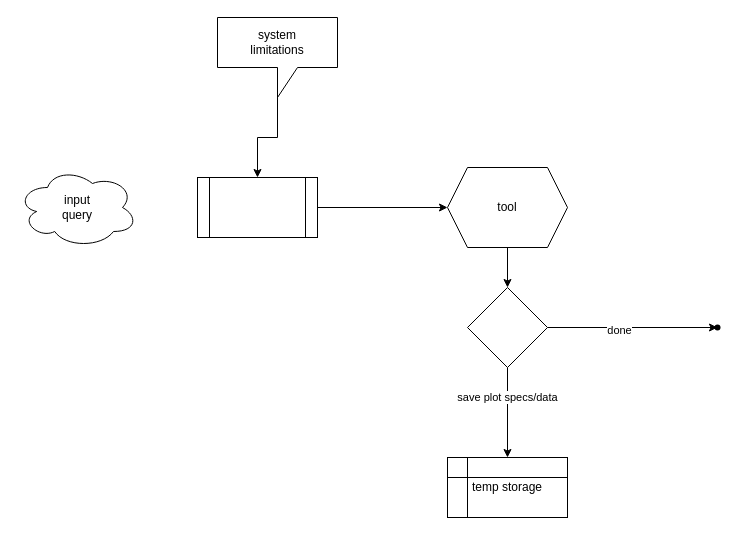
Image size: 745x535. Some labels were removed from this diagram. Here are the shapes that lost their labels. From the top down, the centre of each, then its label:
point 257,207: initial call
point 507,327: save plot?
